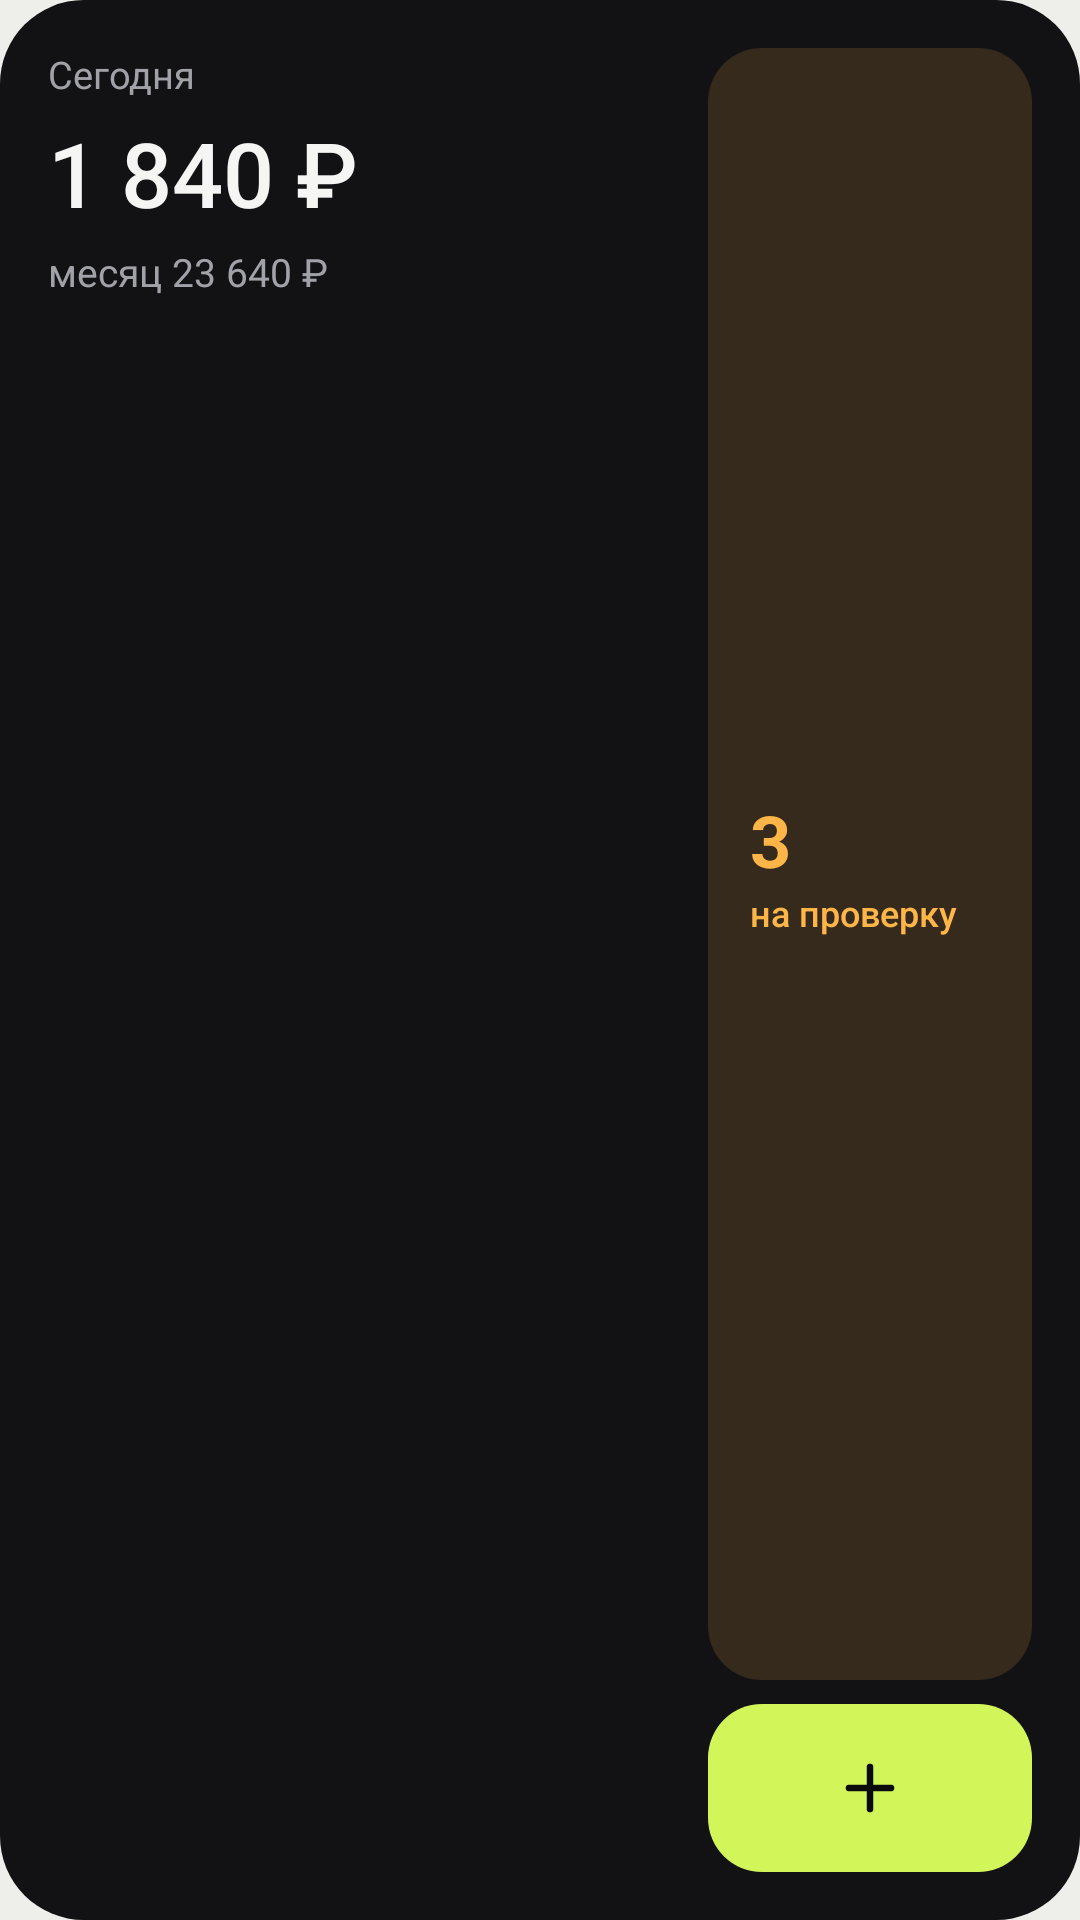

Point at icon controls on the screen. Image size 1080x1920, points as (x=x, y=y).
Добавить операцию: (x=870, y=1788)
